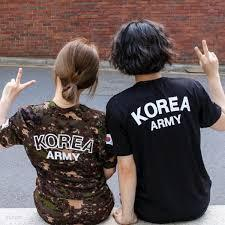Tshirt: (108, 81, 224, 224), (0, 93, 115, 223)
